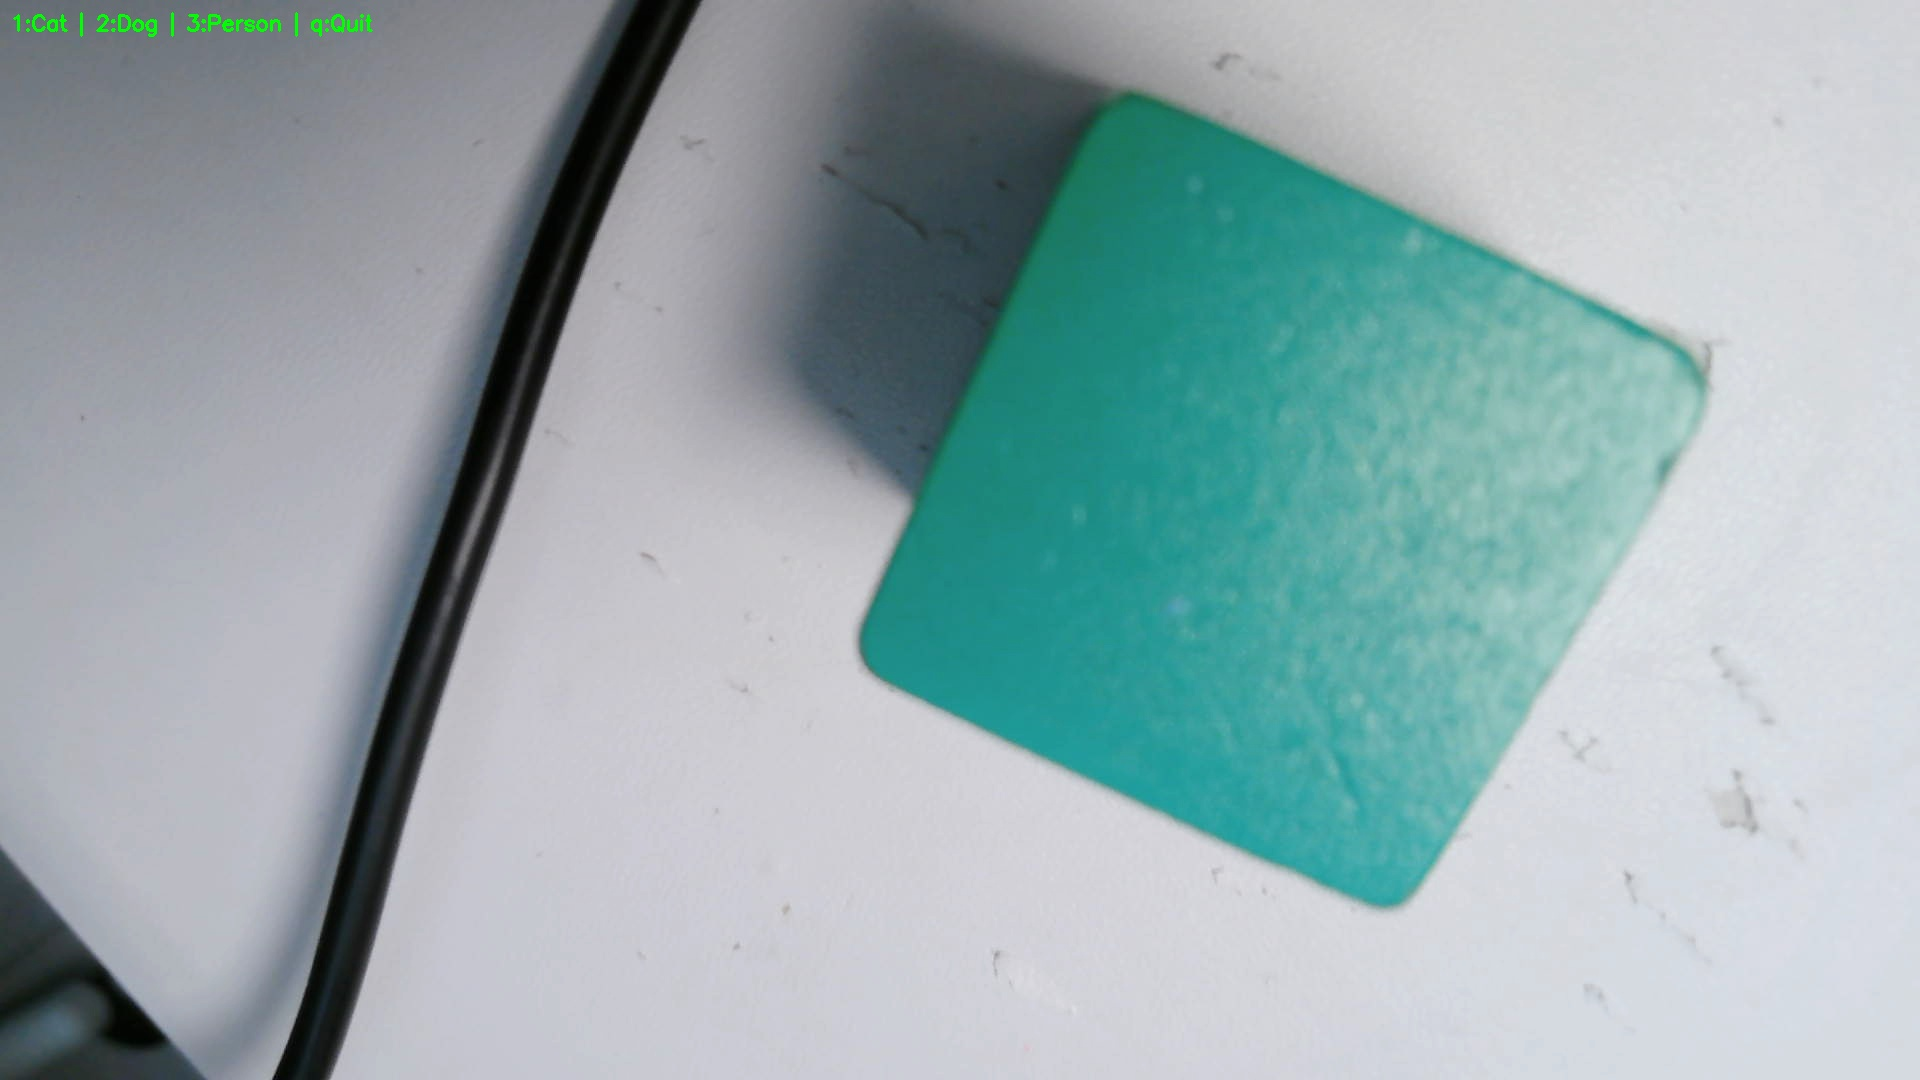green: (862, 90, 1706, 924)
